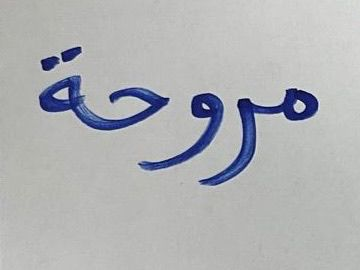meem: (267, 73, 330, 135)
reh: (230, 87, 264, 189)
teh_marbota: (24, 41, 96, 139)
waw: (99, 78, 171, 139), (174, 78, 225, 164)
